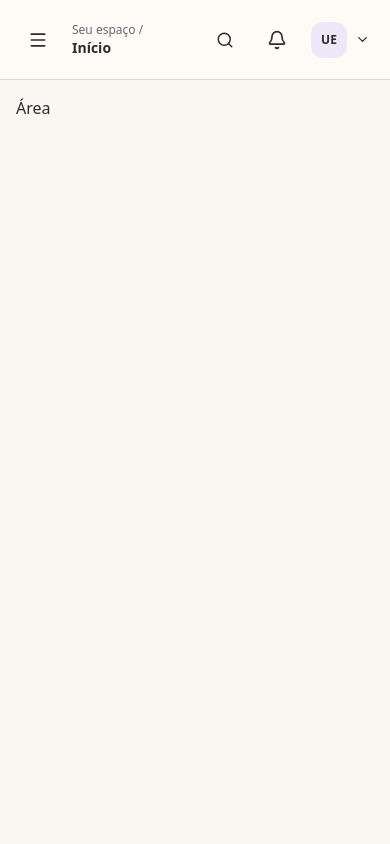
Test case: autenticação e shell › destaca rota ativa e abre navegação mobile
The image size is (390, 844).
Click the button named "Abrir menu".
click(38, 40)  # box [16,18,60,62]
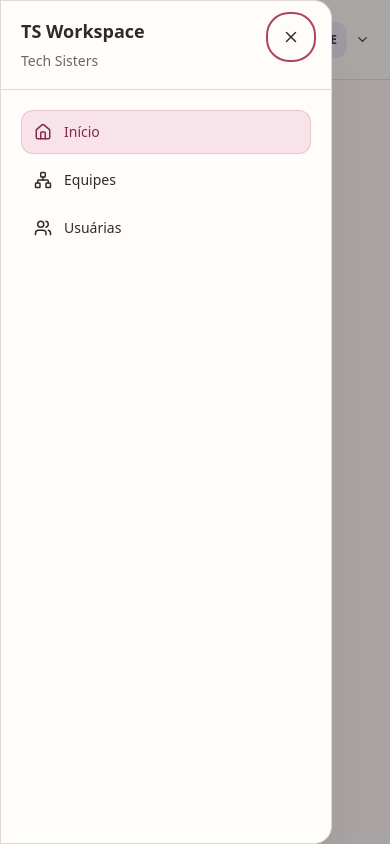
Expected: the dialog is shown
